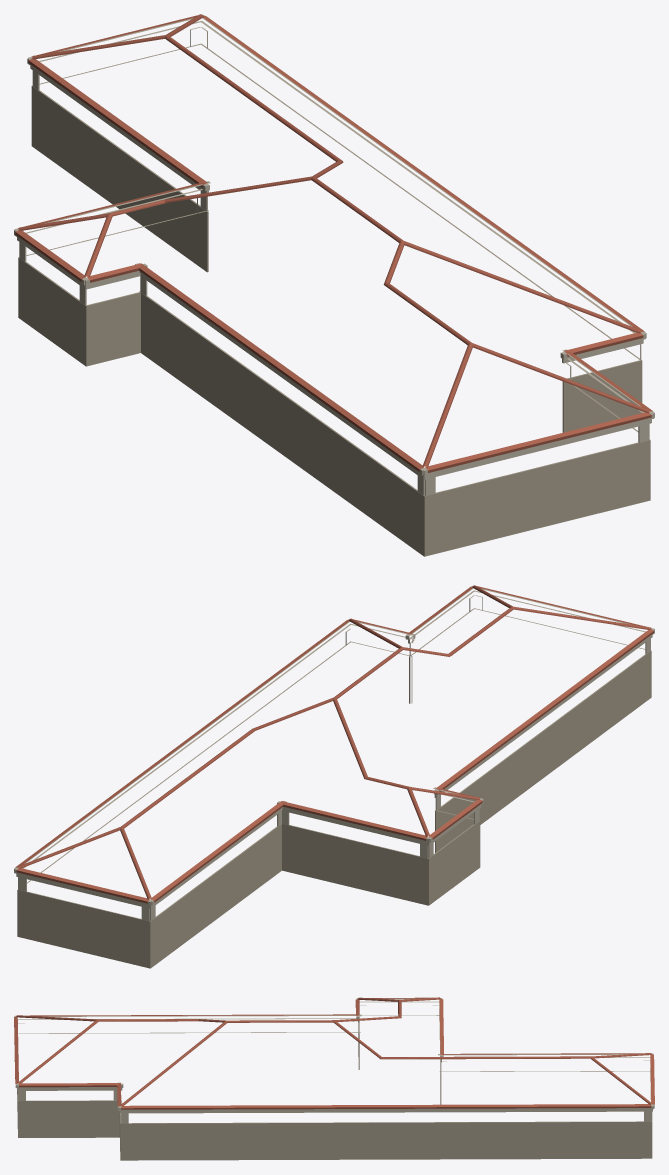
3 renders of one model, top to bottom at view 1: azimuth 30°, elevation 25°; view 2: azimuth 150°, elevation 25°; view 3: azimuth 270°, elevation 25°, orthographic. The views are drawn at different scales.
Visible parts, largest first — view 1: detail; view 2: detail; view 3: detail.
Boxes of the visible parts, left/top/right/bottom form: detail: left=14, top=14, right=654, bottom=556; detail: left=14, top=585, right=654, bottom=968; detail: left=14, top=997, right=654, bottom=1160.
Bounding box in the file's own units: 22.18 × 8.82 × 54.4.
